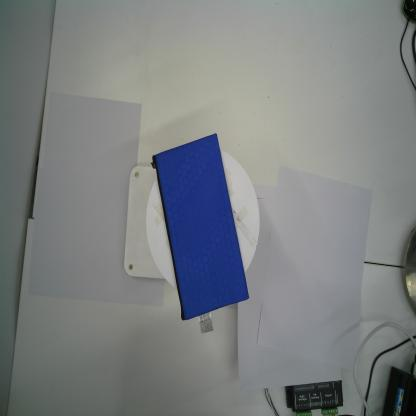Stationery: (151, 133, 249, 321)
